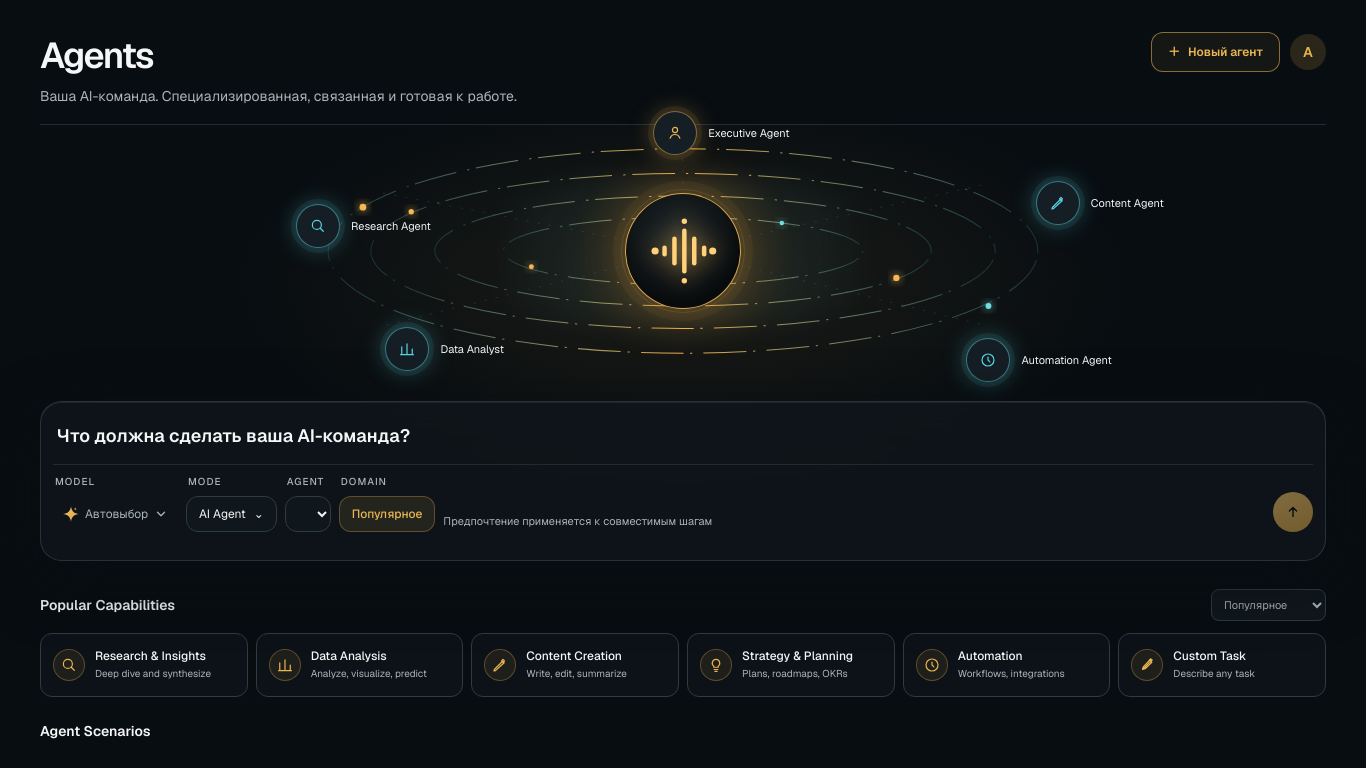
Test: AgentsPage › offers a real model preference dropdown in the Agents composer
This screenshot has width=1366, height=768.
Click the button with aria-label "Модель: Автовыбор": coordinates (116, 514) [53,496,178,532]
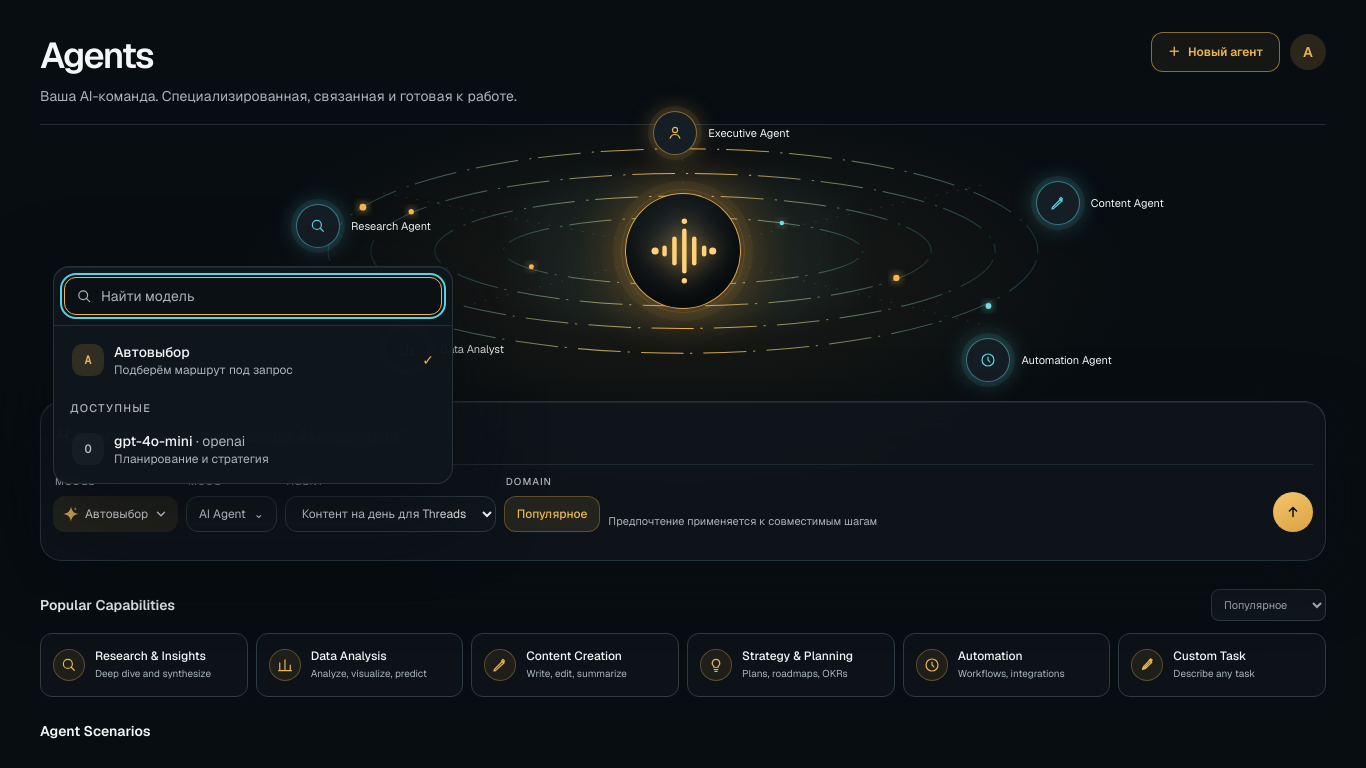
Click the button "O gpt-4o-mini · openai Планирование и стратегия": coordinates (253, 449) [62,423,444,475]
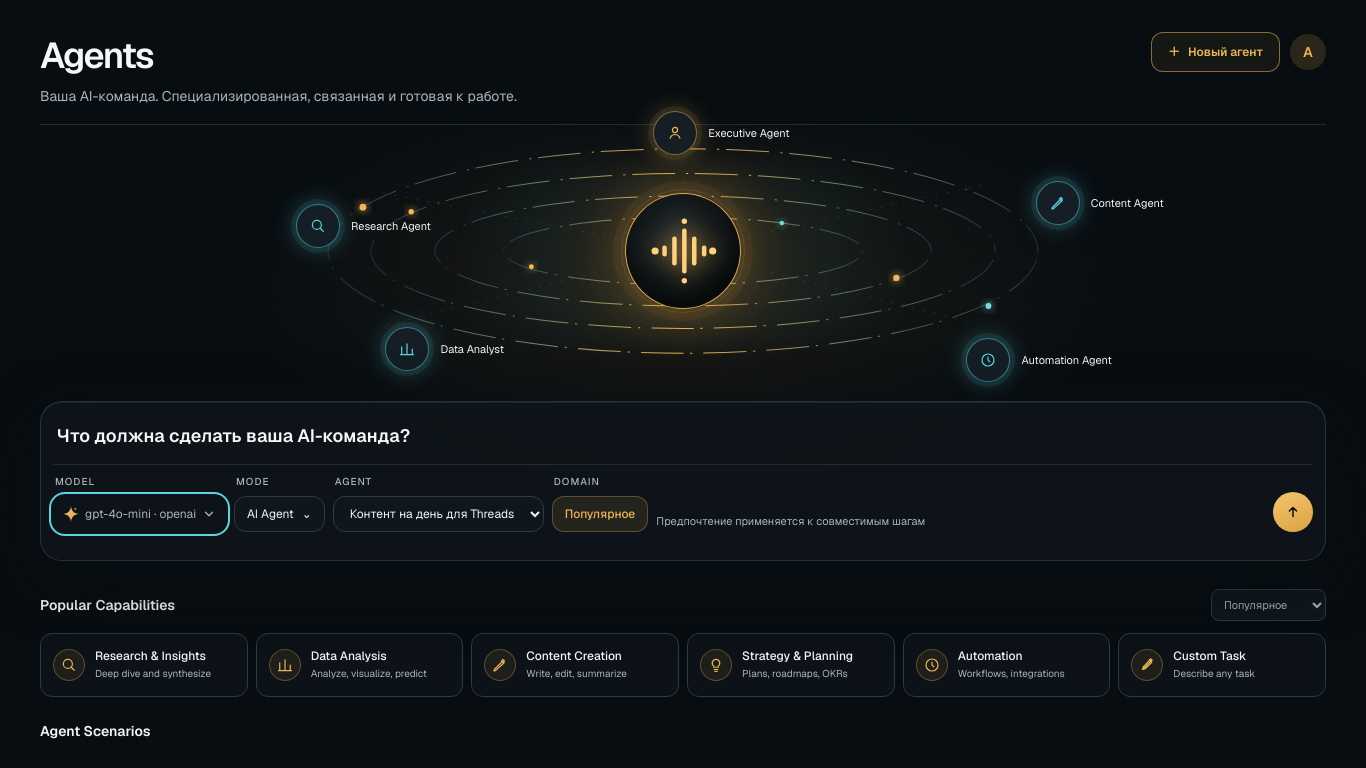
Expected: the button with aria-label "Модель: gpt-4o-mini · openai" is shown, [53,496,226,532]
